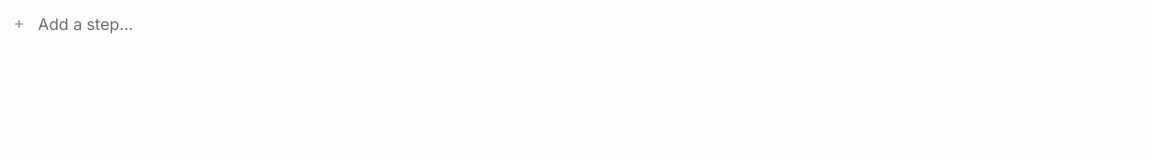
Test: SubtaskList - add-step button › clicking the Plus icon submits the input, same as pressing Enter
Expected: the button named "Add step" is disabled, top-left (12, 17), bottom-right (26, 31)
Type "First step" into the field with placeholder "Add a step..." at (589,24), box top-left (38, 8), bottom-right (1140, 40)
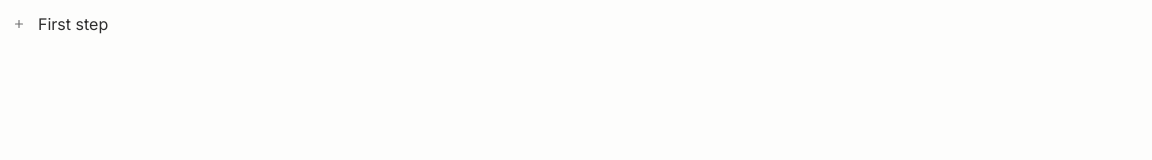
Click the button named "Add step" at (19,24), box top-left (12, 17), bottom-right (26, 31)
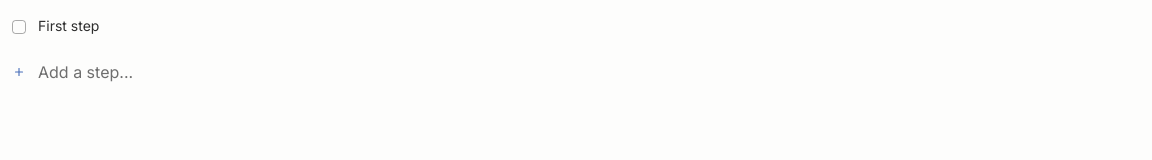
Expected: the button "First step" is shown, top-left (38, 17), bottom-right (99, 34)
Expected: the field with placeholder "Add a step..." is empty, top-left (38, 56), bottom-right (1140, 88)
